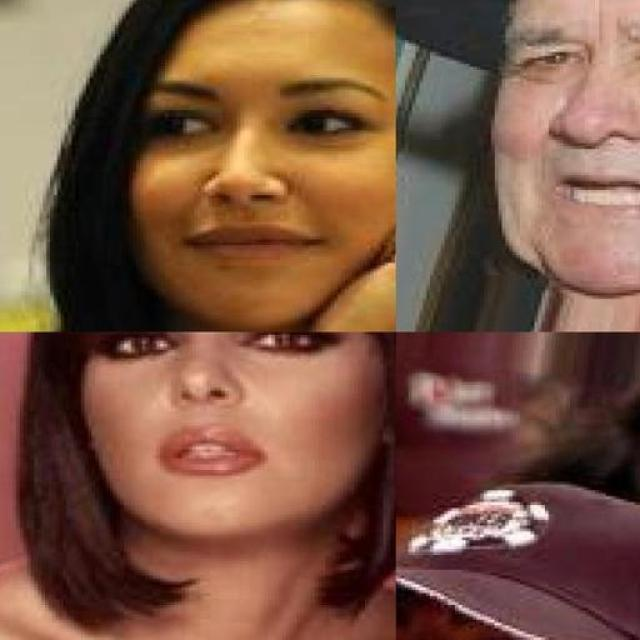bareface: (44, 12, 392, 318)
